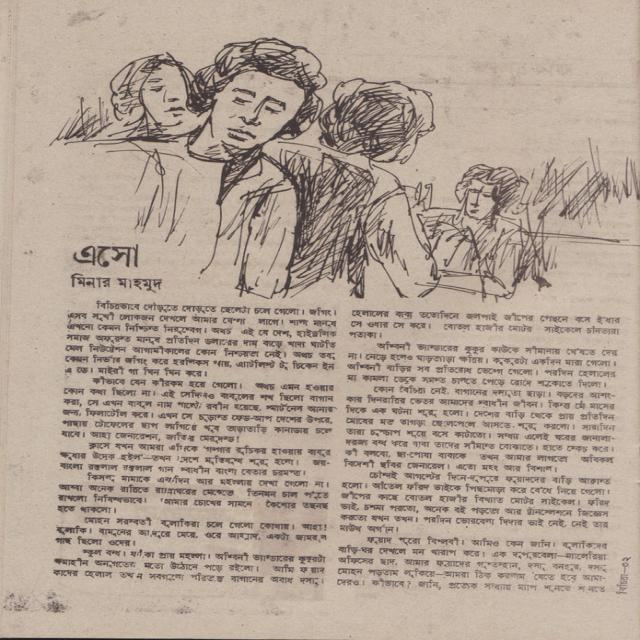image: (54, 23, 627, 306)
page number: (617, 553, 635, 569)
paragraph: (337, 385, 625, 474), (55, 296, 342, 379), (49, 371, 342, 447), (332, 532, 612, 598), (332, 469, 615, 534), (338, 336, 627, 390), (51, 470, 337, 516), (44, 544, 332, 589), (52, 440, 339, 479), (41, 513, 333, 551), (345, 304, 623, 342)
text: (47, 272, 176, 291), (617, 572, 631, 596)
title: (62, 227, 172, 271)
